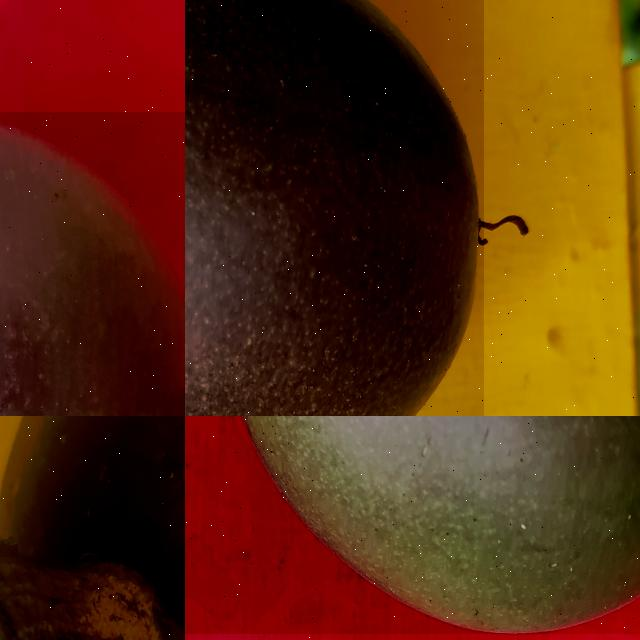Estado-3: (243, 416, 640, 634), (0, 122, 185, 416)
Estado-5: (0, 416, 185, 640)
Estado-6: (185, 0, 483, 416)
